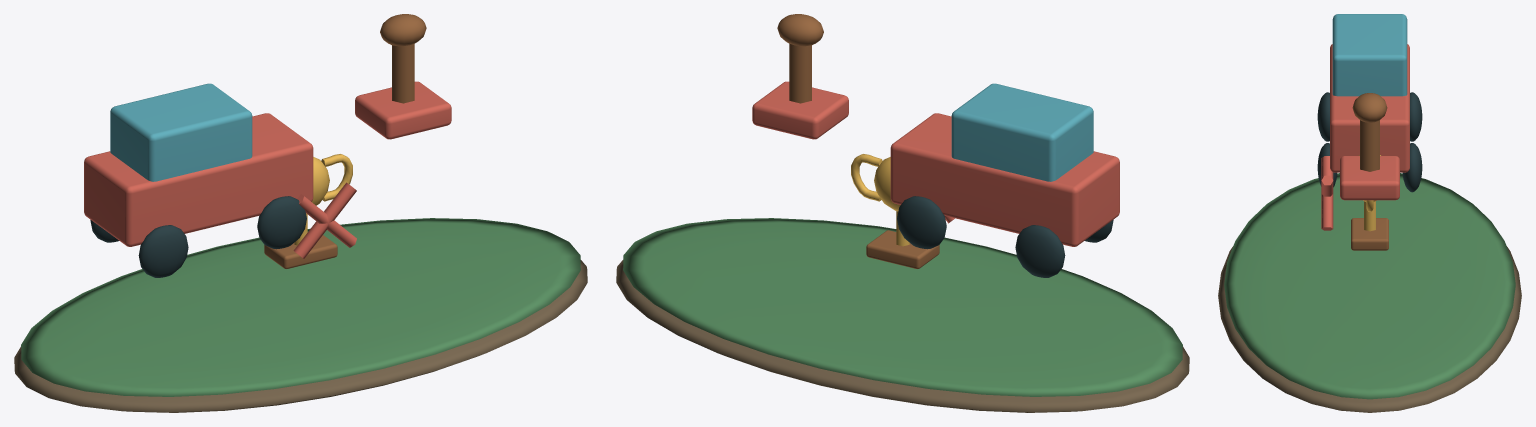
File: complete-second-vehicle-lost-stamp.glb
3 views of the same model, side by side, from view 1: azimuth 30°, elevation 25°; view 2: azimuth 150°, elevation 25°; view 3: azimuth 270°, elevation 25° (orthographic). The views are drawn at different scales.
Visible parts, largest first — view 1: complete-second-vehicle-lost-stamp_surface_01, complete-second-vehicle-lost-stamp_surface_02, complete-second-vehicle-lost-stamp_surface_03, complete-second-vehicle-lost-stamp_surface_00, complete-second-vehicle-lost-stamp_surface_04, complete-second-vehicle-lost-stamp_surface_05, complete-second-vehicle-lost-stamp_surface_06; view 2: complete-second-vehicle-lost-stamp_surface_01, complete-second-vehicle-lost-stamp_surface_02, complete-second-vehicle-lost-stamp_surface_03, complete-second-vehicle-lost-stamp_surface_00, complete-second-vehicle-lost-stamp_surface_04, complete-second-vehicle-lost-stamp_surface_05, complete-second-vehicle-lost-stamp_surface_06; view 3: complete-second-vehicle-lost-stamp_surface_01, complete-second-vehicle-lost-stamp_surface_02, complete-second-vehicle-lost-stamp_surface_03, complete-second-vehicle-lost-stamp_surface_00, complete-second-vehicle-lost-stamp_surface_05, complete-second-vehicle-lost-stamp_surface_04, complete-second-vehicle-lost-stamp_surface_06.
Part boxes in pixels (left/top/right/bottom): complete-second-vehicle-lost-stamp_surface_01: left=21, top=218, right=580, bottom=396; complete-second-vehicle-lost-stamp_surface_02: left=84, top=81, right=451, bottom=258; complete-second-vehicle-lost-stamp_surface_03: left=110, top=83, right=252, bottom=181; complete-second-vehicle-lost-stamp_surface_00: left=14, top=260, right=587, bottom=412; complete-second-vehicle-lost-stamp_surface_04: left=90, top=196, right=306, bottom=277; complete-second-vehicle-lost-stamp_surface_05: left=264, top=14, right=426, bottom=268; complete-second-vehicle-lost-stamp_surface_06: left=294, top=154, right=352, bottom=245; complete-second-vehicle-lost-stamp_surface_01: left=623, top=218, right=1182, bottom=396; complete-second-vehicle-lost-stamp_surface_02: left=752, top=81, right=1119, bottom=246; complete-second-vehicle-lost-stamp_surface_03: left=951, top=83, right=1093, bottom=181; complete-second-vehicle-lost-stamp_surface_00: left=616, top=260, right=1189, bottom=412; complete-second-vehicle-lost-stamp_surface_04: left=897, top=196, right=1113, bottom=277; complete-second-vehicle-lost-stamp_surface_05: left=777, top=14, right=939, bottom=268; complete-second-vehicle-lost-stamp_surface_06: left=851, top=154, right=909, bottom=246; complete-second-vehicle-lost-stamp_surface_01: left=1224, top=173, right=1515, bottom=399; complete-second-vehicle-lost-stamp_surface_02: left=1321, top=44, right=1409, bottom=230; complete-second-vehicle-lost-stamp_surface_03: left=1332, top=14, right=1407, bottom=96; complete-second-vehicle-lost-stamp_surface_00: left=1218, top=246, right=1521, bottom=412; complete-second-vehicle-lost-stamp_surface_05: left=1351, top=93, right=1388, bottom=250; complete-second-vehicle-lost-stamp_surface_04: left=1317, top=92, right=1422, bottom=192; complete-second-vehicle-lost-stamp_surface_06: left=1359, top=155, right=1380, bottom=231.
Size of the model in its own units: 4.56 by 2.34 by 2.5.
